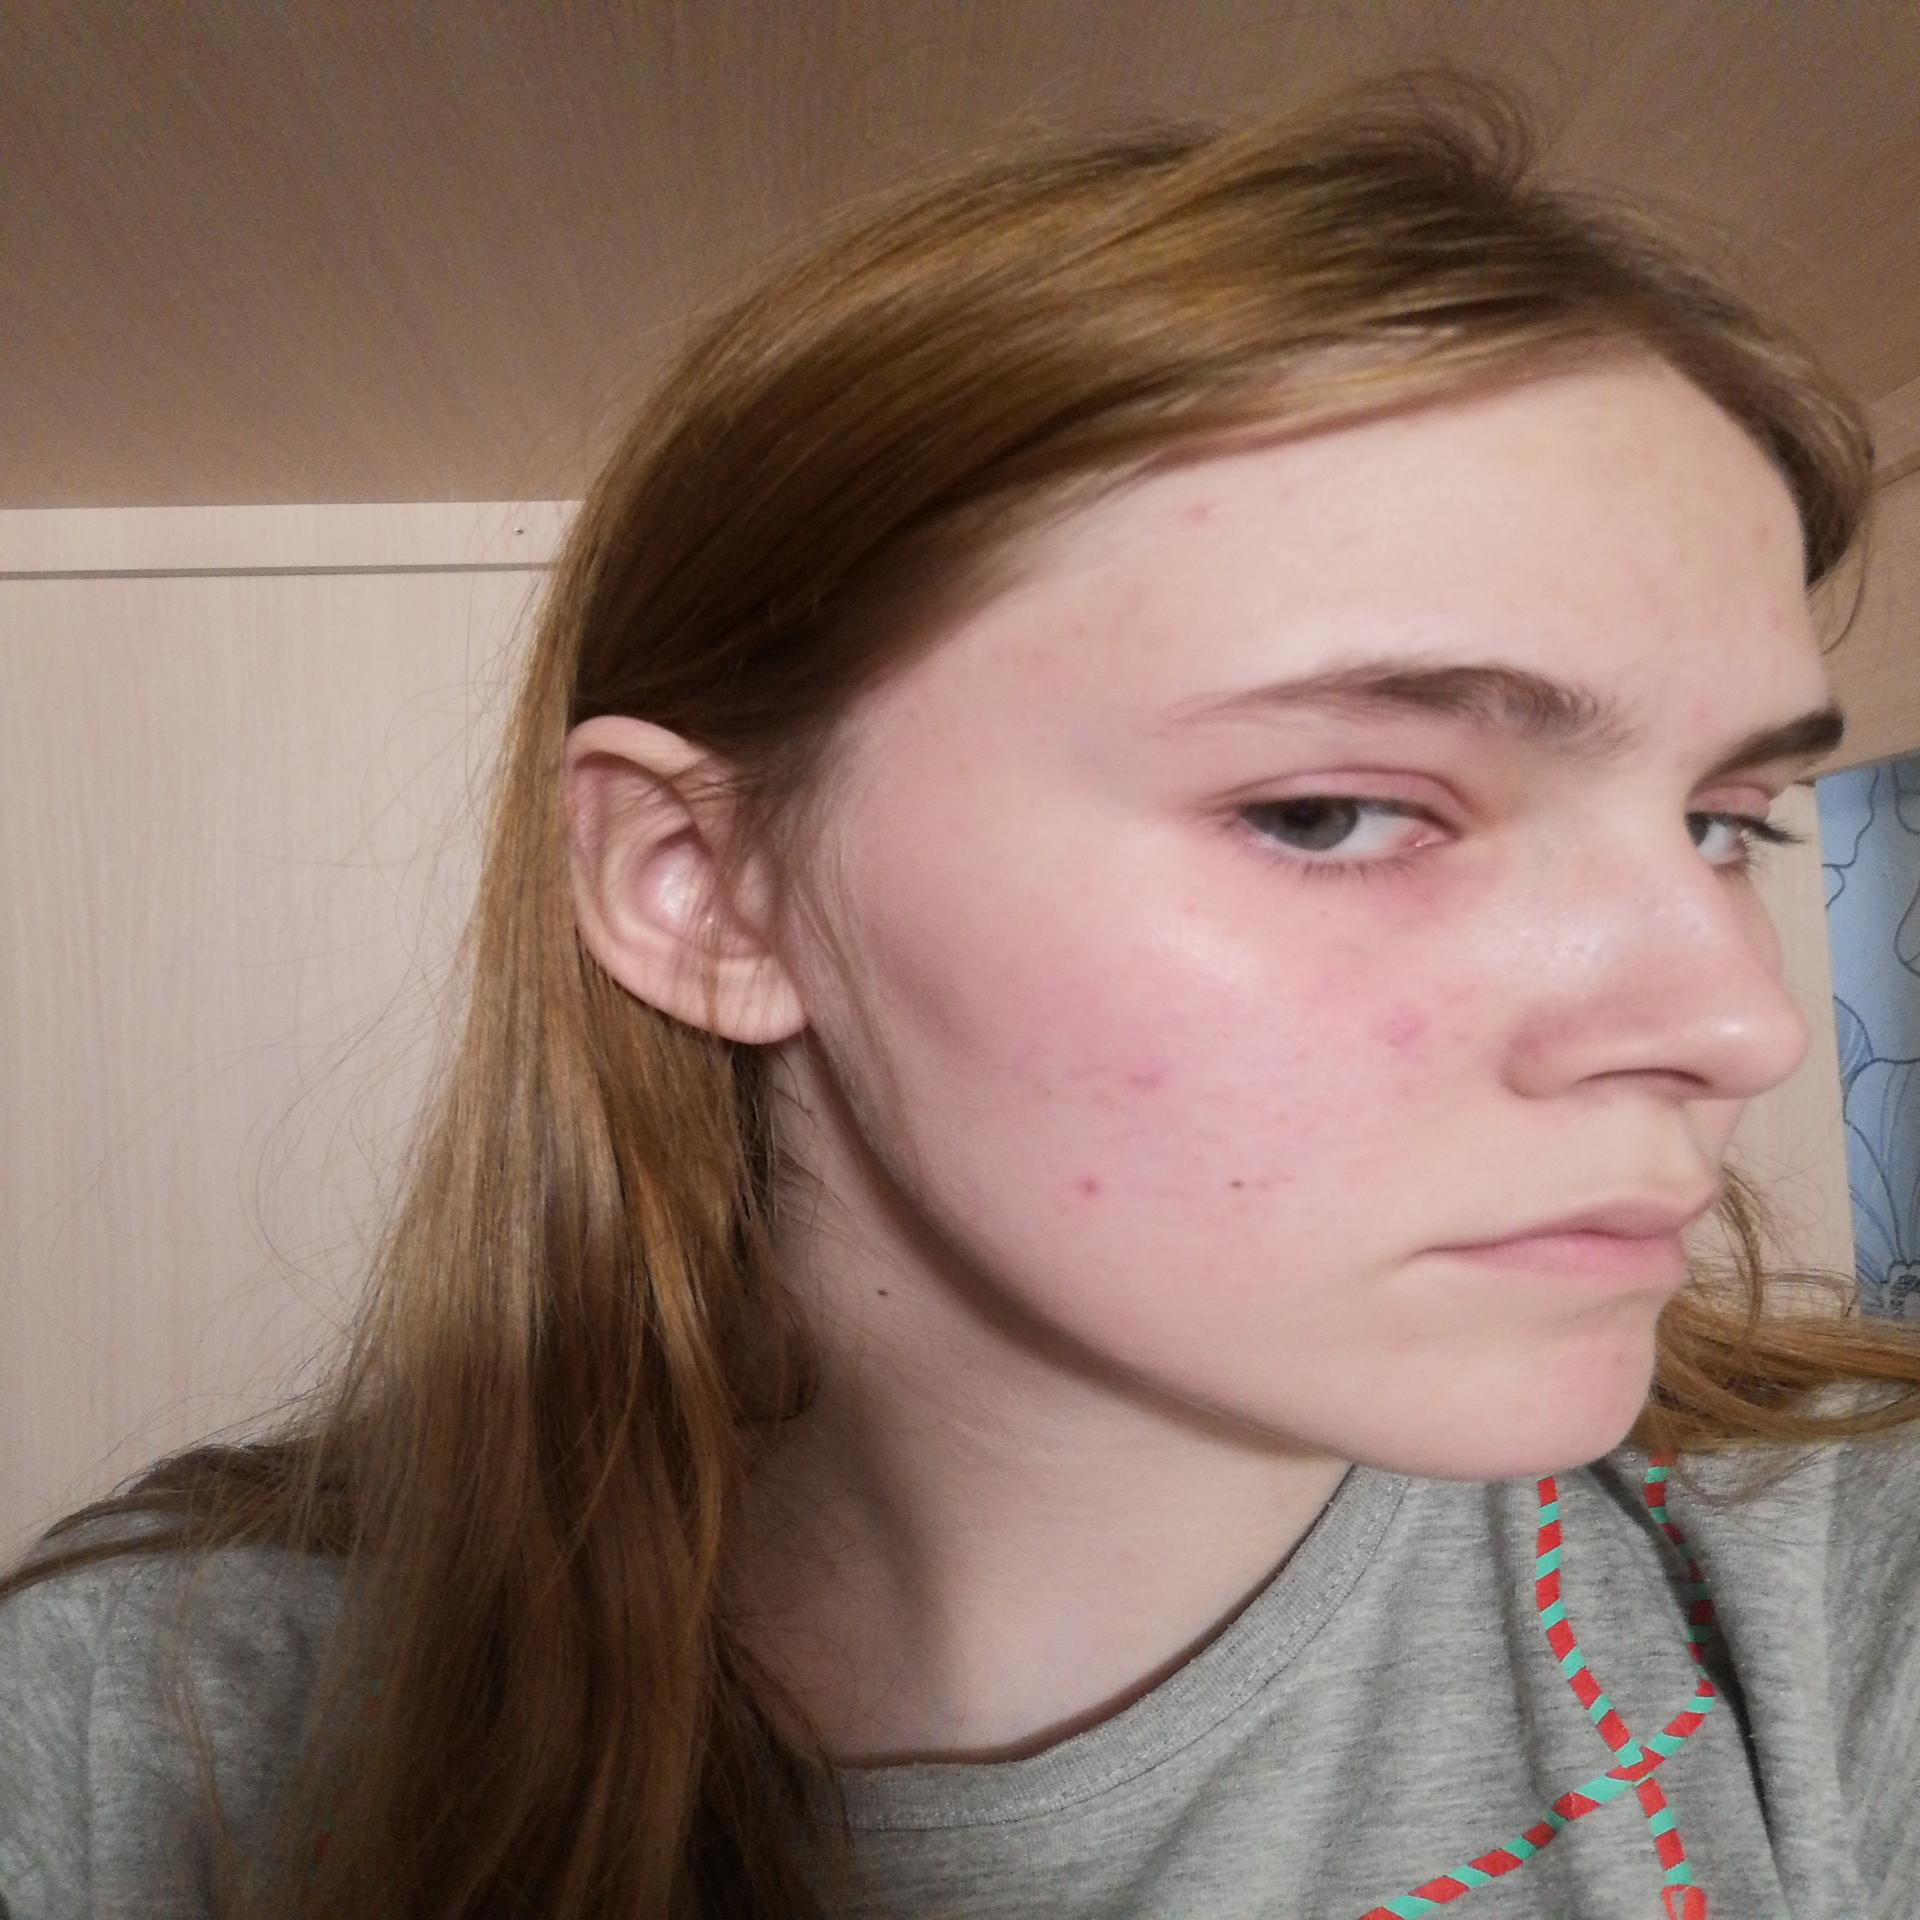Acne: (1371, 1007, 1435, 1053), (1120, 1060, 1173, 1097), (1496, 1027, 1547, 1062), (1180, 491, 1218, 535), (1065, 1175, 1113, 1201), (1677, 703, 1720, 728), (1751, 515, 1779, 550), (1756, 603, 1785, 633), (1767, 656, 1793, 687)
